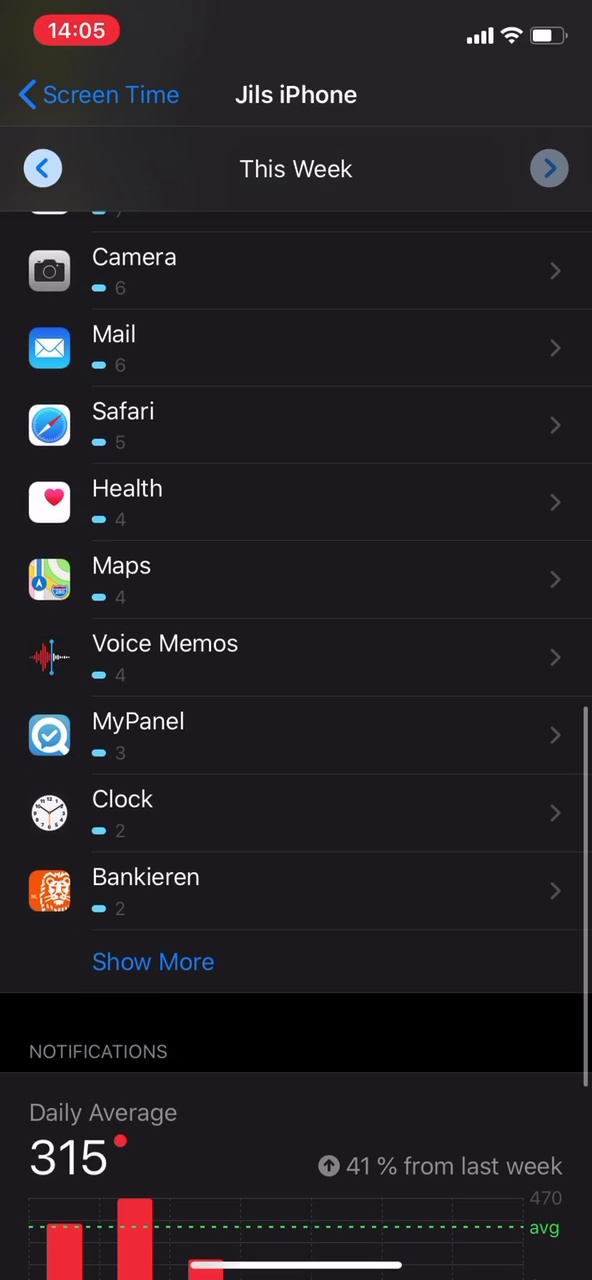not_over: (18, 1016, 242, 1192)
pick_app: (15, 627, 276, 689), (15, 232, 242, 302), (20, 864, 245, 930), (15, 708, 248, 771), (11, 394, 200, 457), (14, 475, 193, 538), (22, 789, 200, 842), (22, 324, 190, 377), (11, 557, 156, 607)
week: (223, 152, 372, 189)
